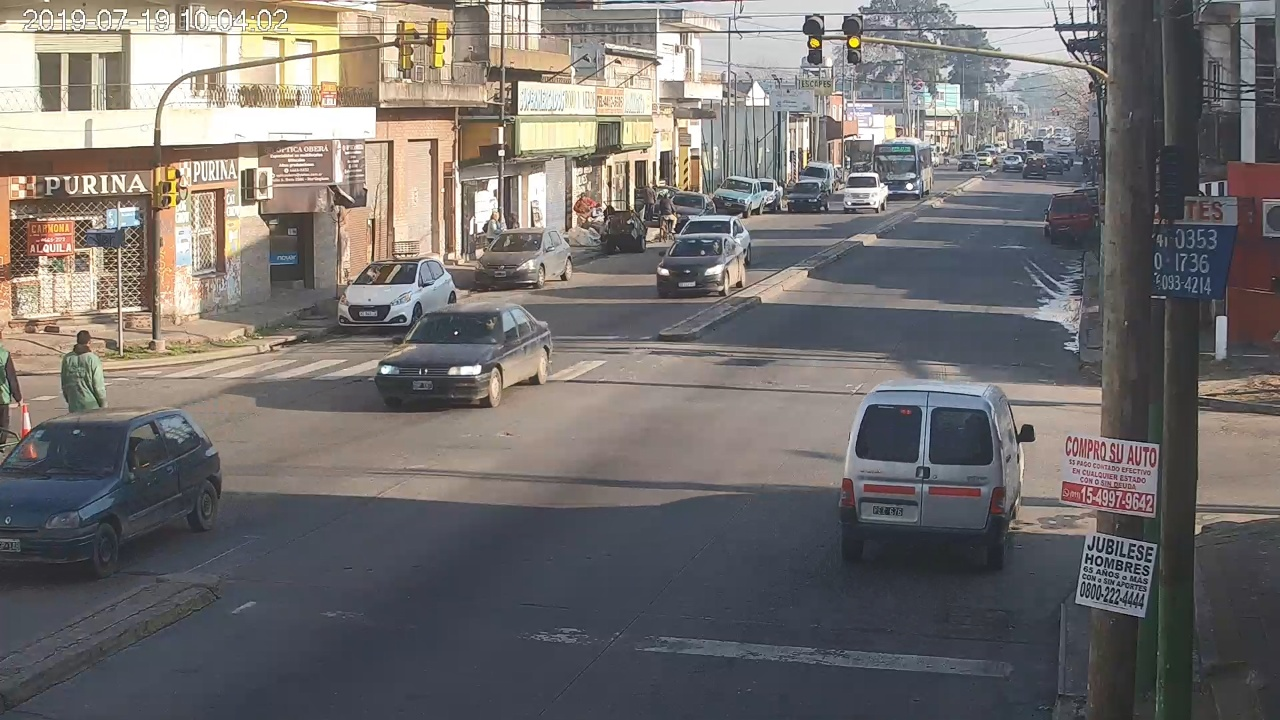car: (839, 380, 1035, 567)
front car: (1, 408, 222, 577), (375, 301, 553, 408)
traffic light: (808, 15, 824, 64), (847, 17, 862, 63)
